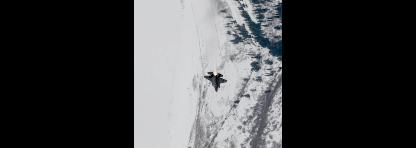F22: (203, 71, 228, 91)
